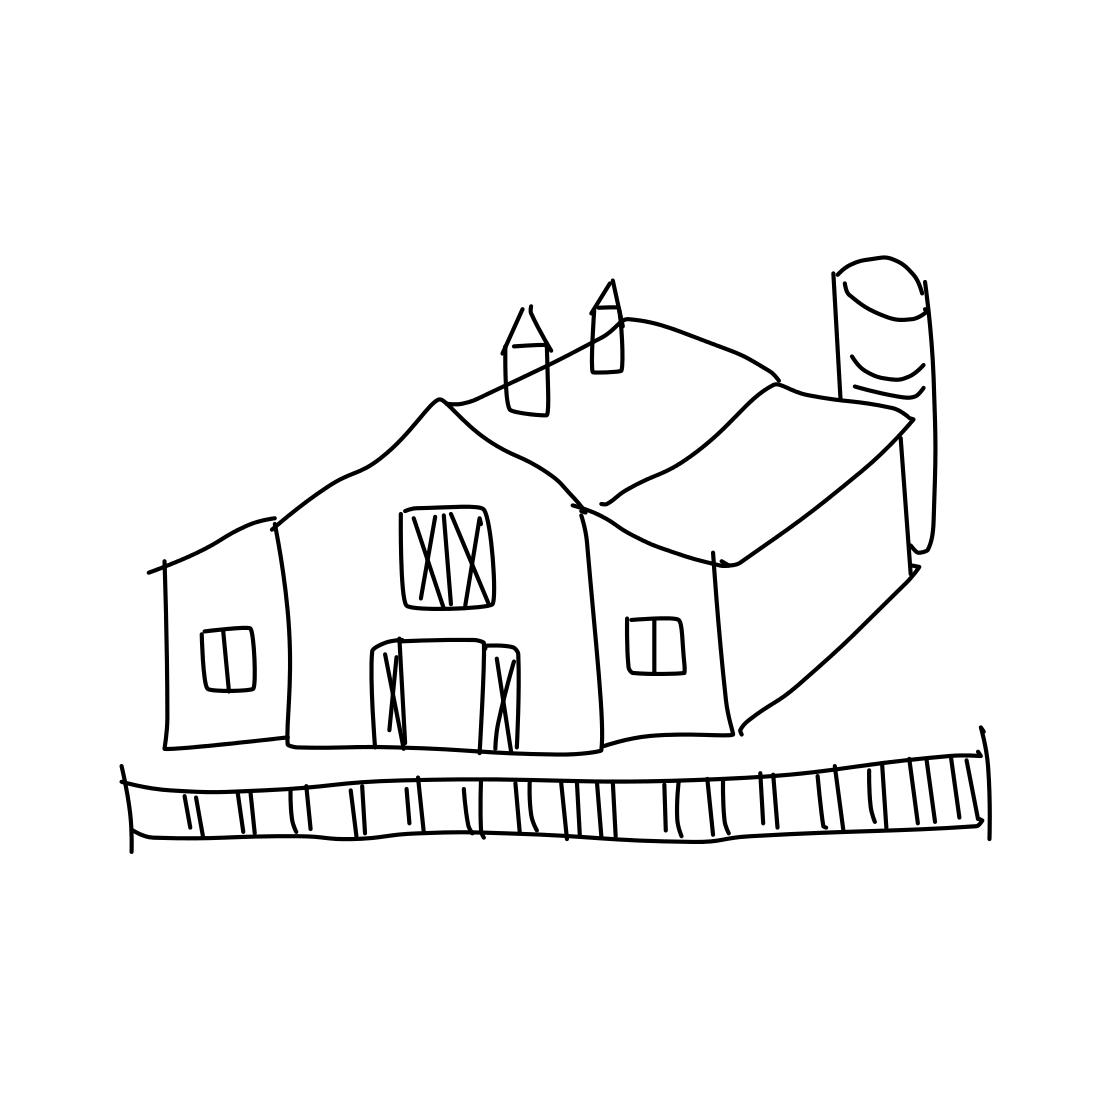House: (118, 228, 977, 762)
